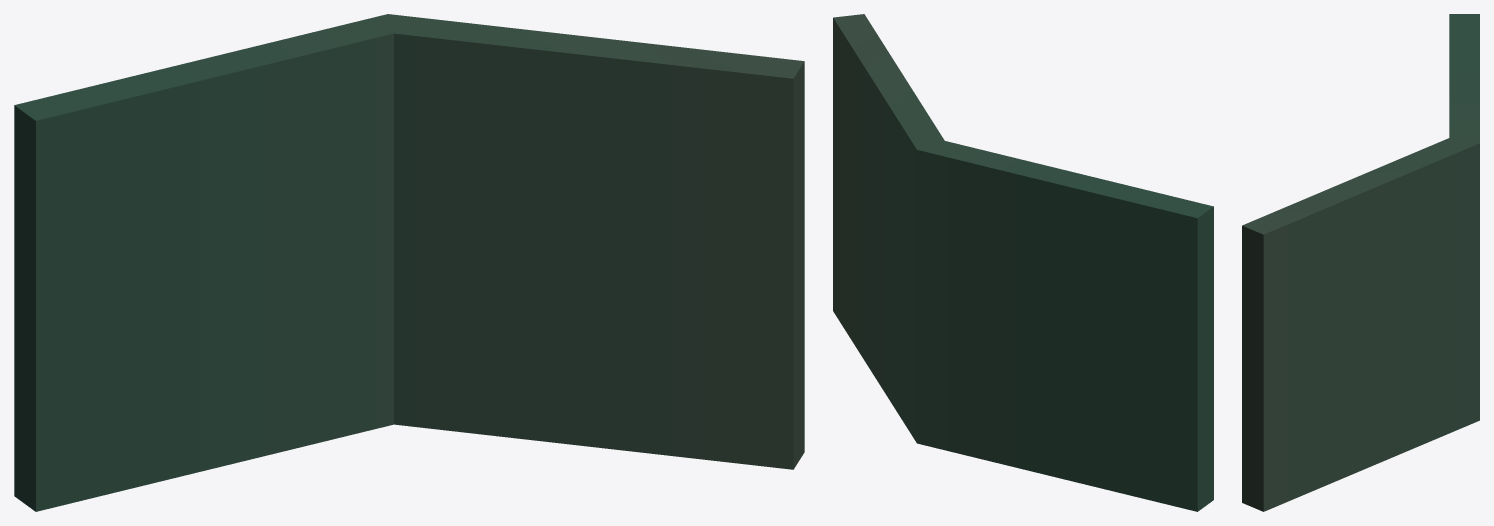
The model's file is SM_Wall_Corner60.fbx.
3 views of the same model, side by side, from view 1: azimuth 30°, elevation 25°; view 2: azimuth 150°, elevation 25°; view 3: azimuth 270°, elevation 25° (orthographic). The views are drawn at different scales.
Parts seen in each view (by area): view 1: SM_Wall_Corner60; view 2: SM_Wall_Corner60; view 3: SM_Wall_Corner60.
Part boxes in pixels (box(x1,y1,x2,y2)): SM_Wall_Corner60: box(14, 14, 804, 511); SM_Wall_Corner60: box(833, 14, 1213, 511); SM_Wall_Corner60: box(1242, 14, 1479, 511).
Bounding box in the file's own units: 854 × 500 × 389.
1 material, 1 textured.
